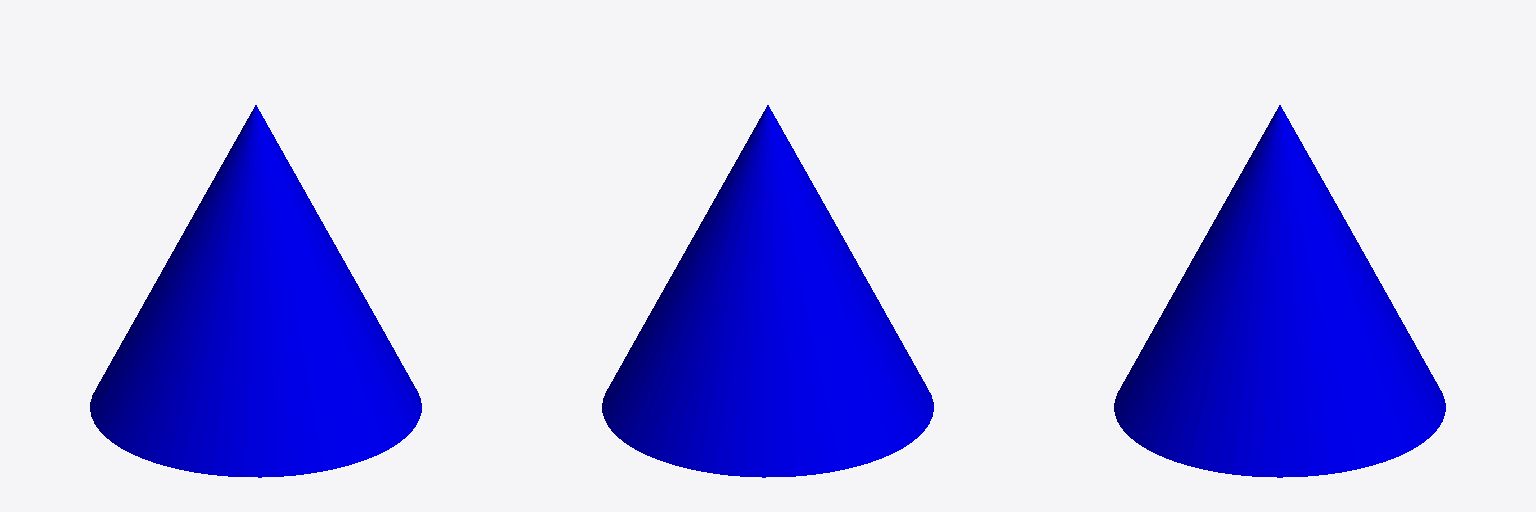
The model's file is cone_blue.obj.
3 renders of one model, left to right at view 1: azimuth 30°, elevation 25°; view 2: azimuth 150°, elevation 25°; view 3: azimuth 270°, elevation 25°, orthographic.
Visible parts, largest first — view 1: Cylinder_Cylinder.002; view 2: Cylinder_Cylinder.002; view 3: Cylinder_Cylinder.002.
Part boxes in pixels (x1,y1,x2,y2): Cylinder_Cylinder.002: (90,105,421,477); Cylinder_Cylinder.002: (602,105,933,477); Cylinder_Cylinder.002: (1114,105,1445,477).
Size of the model in its own units: 1.99 by 2 by 1.99.